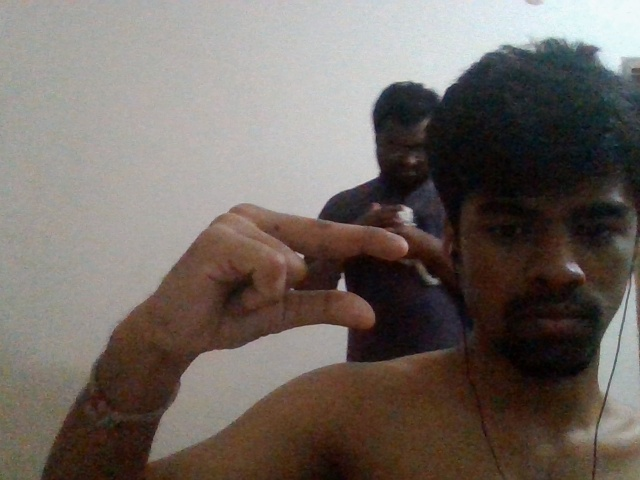No: (124, 196, 401, 348)
